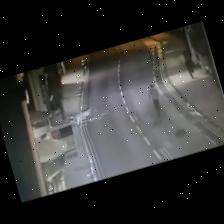person: (149, 84, 161, 116), (185, 60, 194, 79)
